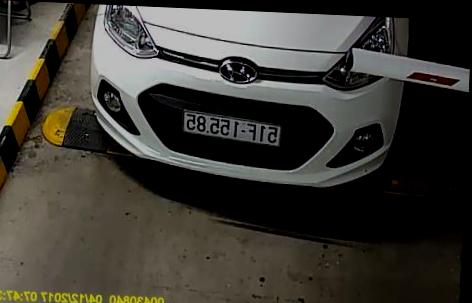License_Plate: (183, 112, 282, 145)
